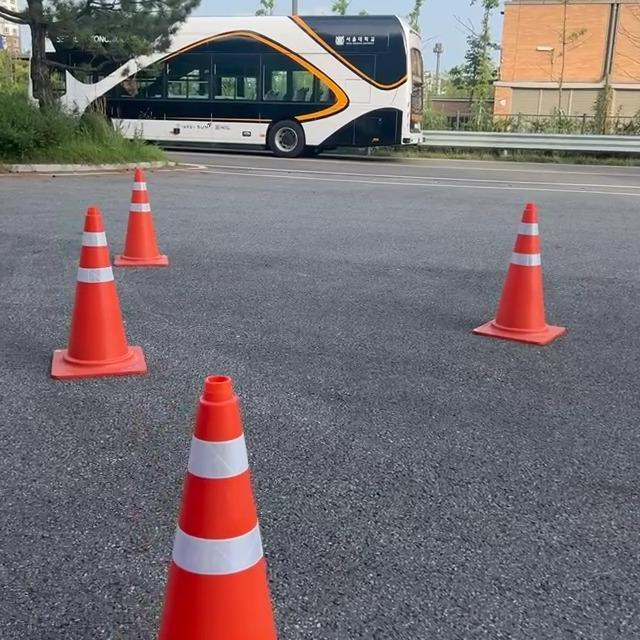fallen_object: (143, 331, 329, 640), (437, 176, 626, 399), (0, 116, 215, 278), (22, 195, 145, 392)
